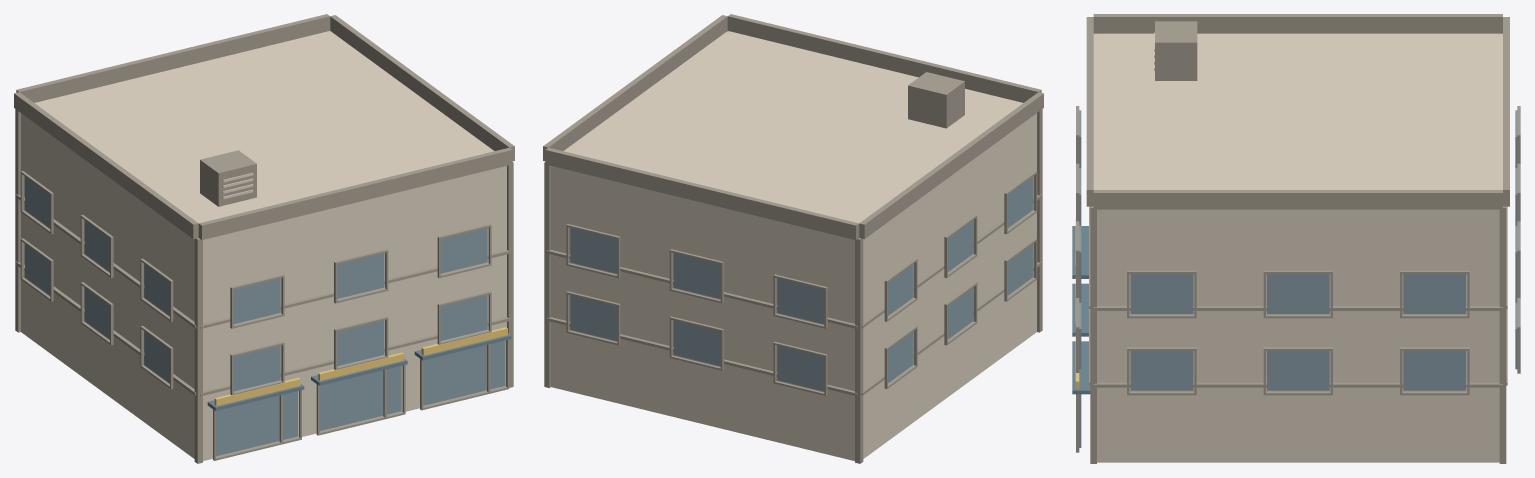
File: lot_2x2.glb
3 renders of one model, left to right at view 1: azimuth 30°, elevation 25°; view 2: azimuth 150°, elevation 25°; view 3: azimuth 270°, elevation 25°, orthographic. The views are drawn at different scales.
Parts seen in each view (by area): view 1: lot_2x2; view 2: lot_2x2; view 3: lot_2x2.
Boxes of the visible parts, box(x1,y1,x2,y2) form: lot_2x2: box(14, 14, 514, 463); lot_2x2: box(543, 14, 1043, 463); lot_2x2: box(1072, 14, 1520, 463).
Size of the model in its own units: 15.74 by 11.5 by 15.87.
